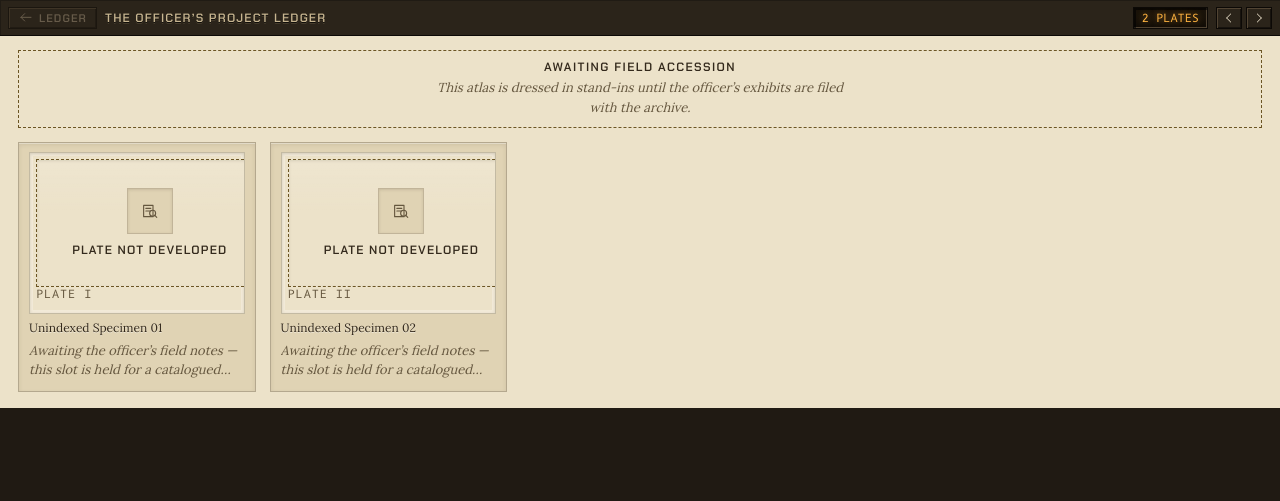
Test case: AP-6 · placeholder mode (a recruiter never sees template debris) › placeholder cards stay honest: no fake tech, no previews, disabled externals
The width and height of the screenshot is (1280, 501).
Note: Enter a stand-in plate: both external actions disabled with reasons.
Click the button with aria-label "Plate I — Unindexed Specimen 01. Open plate.".
click(137, 267)  # box 18,142 -> 256,392
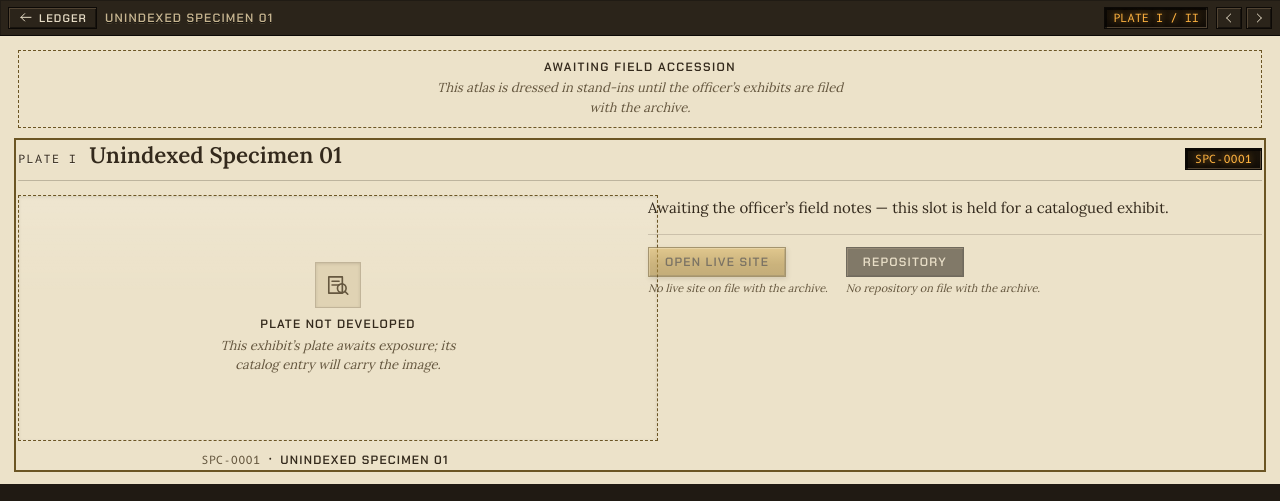
Now the button "Open live site" is disabled, box 648,247 -> 786,277
Now the button "Repository" is disabled, box 846,247 -> 964,277
Now the text "No live site on file with the archive." is shown, box 648,281 -> 828,297
